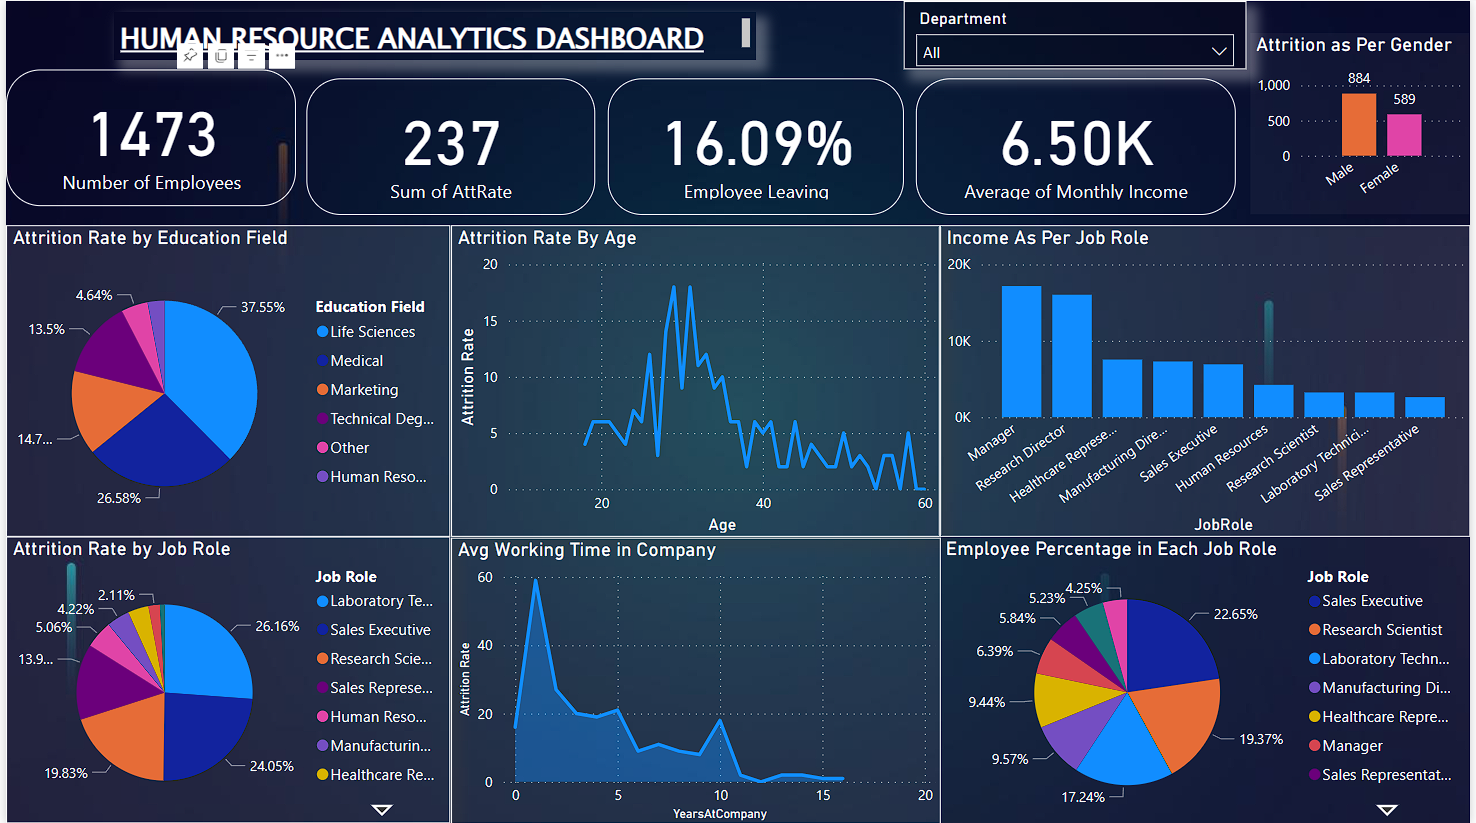

The page's visual inventory and layout, read from the dashboard file:
{"tool":"powerbi","page":{"name":"Page 1","canvas":[1280,720],"ordinal":0},"visuals":[{"type":"card","fields":{"Values":["CountNonNull(HR_Analytics.EmpID)"]},"box":[0,60.1,254,119.2],"z":0},{"type":"card","fields":{"Values":["Sum(HR_Analytics.AttRate)"]},"box":[262.5,67.6,252.4,119.4],"z":1000},{"type":"card","fields":{"Values":["HR_Analytics.Measure"]},"box":[526.1,67.6,259.1,119.4],"z":2000},{"type":"card","fields":{"Values":["Avg(HR_Analytics.MonthlyIncome)"]},"box":[795.3,67.9,279.6,119.2],"z":3000},{"type":"pieChart","title":"Attrition Rate by Education Field","fields":{"Category":["HR_Analytics.EducationField"],"Y":["Sum(HR_Analytics.AttRate)"]},"box":[0,196,388.7,272.6],"z":4000},{"type":"pieChart","title":"Attrition Rate by Job Role","fields":{"Category":["HR_Analytics.JobRole"],"Y":["Sum(HR_Analytics.AttRate)"]},"box":[0,468.7,388.7,251.2],"z":5000},{"type":"lineChart","title":"Attrition Rate By Age","fields":{"Y":["Sum(HR_Analytics.AttRate)"],"Category":["HR_Analytics.Age"]},"box":[388.7,196,427.7,272.9],"z":6000},{"type":"areaChart","title":"Avg Working Time in Company","fields":{"Category":["HR_Analytics.YearsAtCompany"],"Y":["Sum(HR_Analytics.AttRate)"]},"box":[389,469,428,251],"z":7000},{"type":"columnChart","title":"Income As Per Job Role","fields":{"Category":["HR_Analytics.JobRole"],"Y":["Avg(HR_Analytics.MonthlyIncome)"]},"box":[816.5,196,463.4,272.9],"z":8000},{"type":"clusteredColumnChart","title":"Attrition as Per Gender","fields":{"Category":["HR_Analytics.Gender"],"Y":["CountNonNull(HR_Analytics.AttRate)"]},"box":[1088.3,28.2,191.5,158.9],"z":9000},{"type":"pieChart","title":"Employee Percentage in Each Job Role","fields":{"Y":["Sum(HR_Analytics.EmployeeNumber)"],"Category":["HR_Analytics.JobRole"]},"box":[816.5,468.9,463.4,250.6],"z":10000},{"type":"slicer","fields":{"Values":["HR_Analytics.Department"]},"box":[785.3,0,299.6,60.1],"z":11000},{"type":"textbox","box":[94.7,10,561.4,41.2],"z":12000}]}

Visuals, with their boxes in screenshot pixels (x1, y1, x2, y2):
card - CountNonNull(HR_Analytics.EmpID): locate(0, 59, 297, 198)
card - Sum(HR_Analytics.AttRate): locate(307, 67, 601, 207)
card - HR_Analytics.Measure: locate(615, 67, 917, 207)
card - Avg(HR_Analytics.MonthlyIncome): locate(929, 68, 1256, 207)
"Attrition Rate by Education Field" pieChart: locate(0, 217, 454, 536)
"Attrition Rate by Job Role" pieChart: locate(0, 536, 454, 822)
"Attrition Rate By Age" lineChart: locate(454, 217, 954, 536)
"Avg Working Time in Company" areaChart: locate(454, 536, 954, 822)
"Income As Per Job Role" columnChart: locate(954, 217, 1475, 536)
"Attrition as Per Gender" clusteredColumnChart: locate(1271, 21, 1475, 207)
"Employee Percentage in Each Job Role" pieChart: locate(954, 536, 1475, 822)
slicer - HR_Analytics.Department: locate(917, 0, 1267, 59)
textbox: locate(111, 0, 766, 48)
